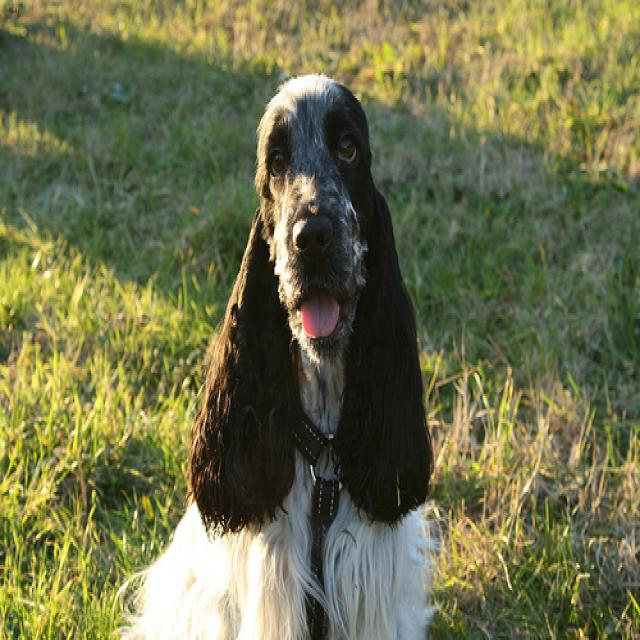dog-english_cocker_spaniel: (102, 54, 452, 636)
